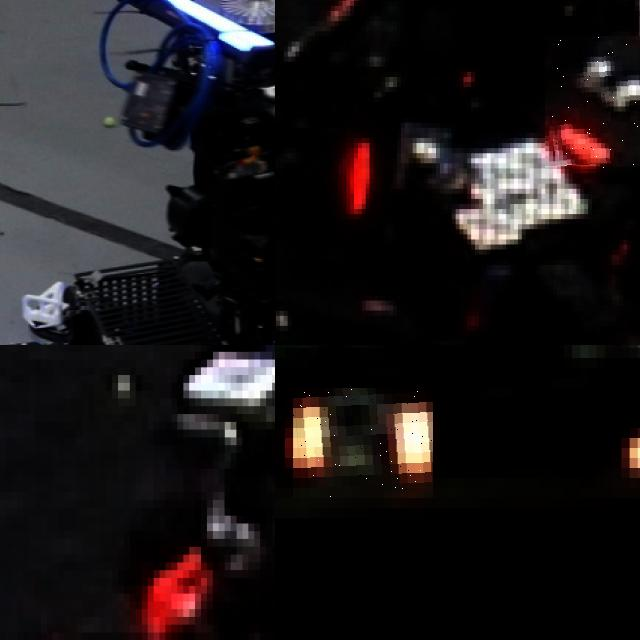R5: (545, 36, 640, 168)
Rs: (293, 388, 433, 498)
